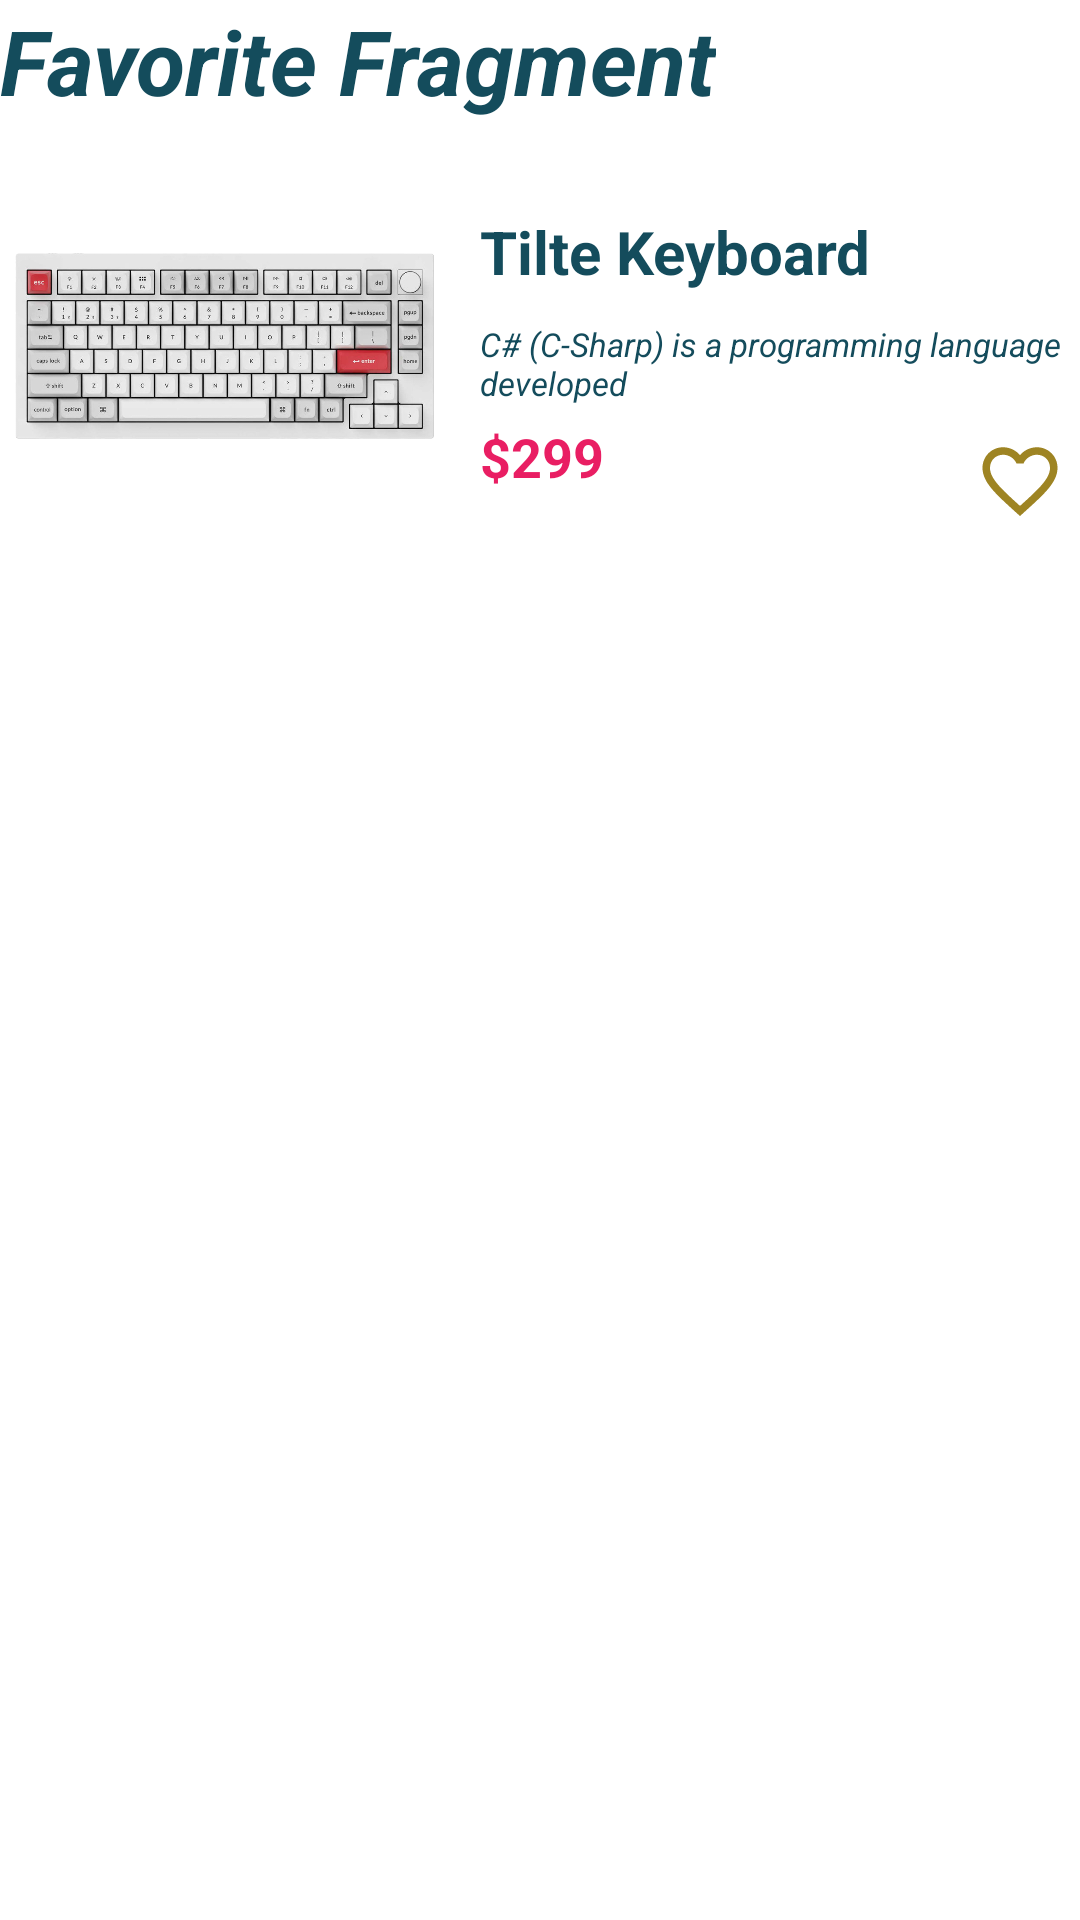

Named icons in this screenshot (1080x1920) and their centers, point (x, y):
favorite border: point (1020, 481)
